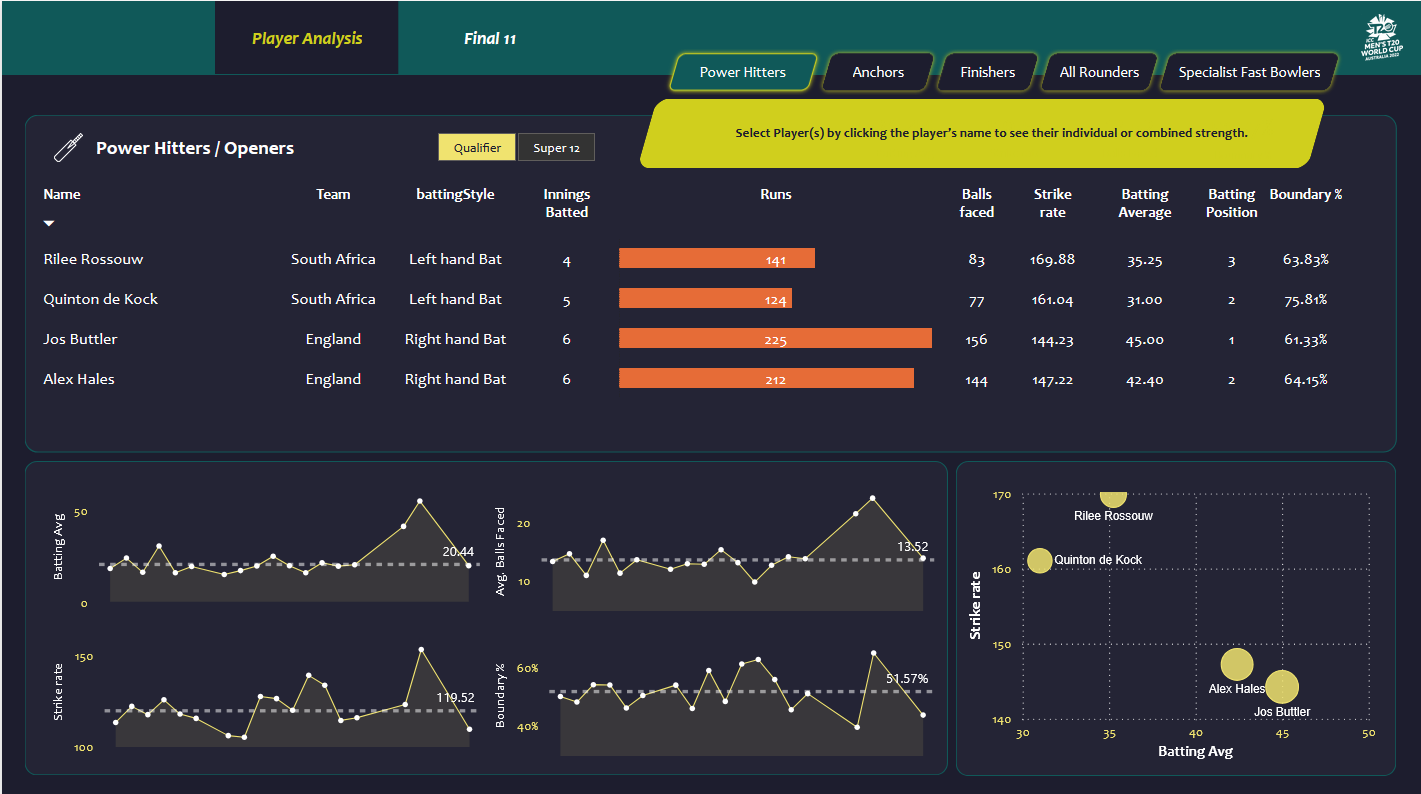

Layout of this report page (visuals, bound fields, positions):
{"tool":"powerbi","page":{"name":"New Final12","canvas":[1280,720],"ordinal":5},"visuals":[{"type":"shape","box":[0,66,1280,654],"z":0},{"type":"image","box":[1220,3,48,59],"z":1000},{"type":"shape","box":[7,122.9,196,585.1],"z":1000,"group":"g1"},{"type":"shape","box":[210.7,75.5,1063.4,632.2],"z":2000},{"type":"actionButton","title":"Button Player Ana selected","box":[357,0,166,66],"z":3000},{"type":"actionButton","title":"Button Player Ana selected","box":[191.4,0,165.7,65.7],"z":4000},{"type":"group","id":"g1","title":"Group 1","box":[7,122.9,196,585.1],"z":6000},{"type":"shape","box":[19.6,104.9,171.5,30.4],"z":7000},{"type":"pivotTable","fields":{"Values":["Min(dim_player.team)","Min(dim_player.Batting Style)","Min(dim_player.Playing Role)","Min(dim_player.Bowling Style)","Key_Measures.Bat Avg","Key_Measures.Strike rate","Key_Measures.Economy","Key_Measures.Bowling Strike Rate","Key_Measures.Bowling Average","Sum(dim_player.Custom Batting Order)"],"Rows":["dim_player.name","dim_player.image"]},"box":[219.9,85.4,1048,501.1],"z":8000},{"type":"shape","box":[219.9,618.4,999.7,63],"z":9000},{"type":"card","fields":{"Values":["Key_Measures.Strike rate"]},"box":[548.4,620.2,93,60],"z":10000},{"type":"slicer","fields":{"Values":["dim_player.name"]},"box":[19.7,149.3,170.5,558.7],"z":11000,"group":"g1"},{"type":"card","fields":{"Values":["Key_Measures.Avergate Balls Faced"]},"box":[657.3,621.9,109.5,56.9],"z":11000},{"type":"card","fields":{"Values":["Key_Measures.Bat Avg"]},"box":[449.4,620.2,92,60],"z":12000},{"type":"card","fields":{"Values":["Key_Measures.Bowling Strike Rate"]},"box":[907.4,618.4,92.3,60.4],"z":13000},{"type":"card","fields":{"Values":["Key_Measures.Economy"]},"box":[1012.6,618.4,100.9,60.4],"z":14000},{"type":"card","fields":{"Values":["Key_Measures.Dot ball %"]},"box":[1113.5,617.6,100.1,60.4],"z":15000},{"type":"card","fields":{"Values":["Key_Measures.Bowling Average"]},"box":[794.4,617.6,91.4,60.4],"z":16000},{"type":"shape","box":[251.8,632.1,172.5,34.3],"z":17000}]}

Visuals, with their boxes in screenshot pixels (x1, y1, x2, y2), scaled from the page's 1280x720 canvas onto the 1421x794 screenshot:
shape: (x1=0, y1=73, x2=1420, y2=793)
image: (x1=1354, y1=3, x2=1408, y2=68)
shape: (x1=8, y1=136, x2=225, y2=781)
shape: (x1=234, y1=83, x2=1414, y2=780)
"Button Player Ana selected" actionButton: (x1=396, y1=0, x2=581, y2=73)
"Button Player Ana selected" actionButton: (x1=212, y1=0, x2=396, y2=72)
"Group 1" group: (x1=8, y1=136, x2=225, y2=781)
shape: (x1=22, y1=116, x2=212, y2=149)
pivotTable - Min(dim_player.team) x Min(dim_player.Batting Style): (x1=244, y1=94, x2=1408, y2=647)
shape: (x1=244, y1=682, x2=1354, y2=751)
card - Key_Measures.Strike rate: (x1=609, y1=684, x2=712, y2=750)
slicer - dim_player.name: (x1=22, y1=165, x2=211, y2=781)
card - Key_Measures.Avergate Balls Faced: (x1=730, y1=686, x2=851, y2=749)
card - Key_Measures.Bat Avg: (x1=499, y1=684, x2=601, y2=750)
card - Key_Measures.Bowling Strike Rate: (x1=1007, y1=682, x2=1110, y2=749)
card - Key_Measures.Economy: (x1=1124, y1=682, x2=1236, y2=749)
card - Key_Measures.Dot ball %: (x1=1236, y1=681, x2=1347, y2=748)
card - Key_Measures.Bowling Average: (x1=882, y1=681, x2=983, y2=748)
shape: (x1=280, y1=697, x2=471, y2=735)
